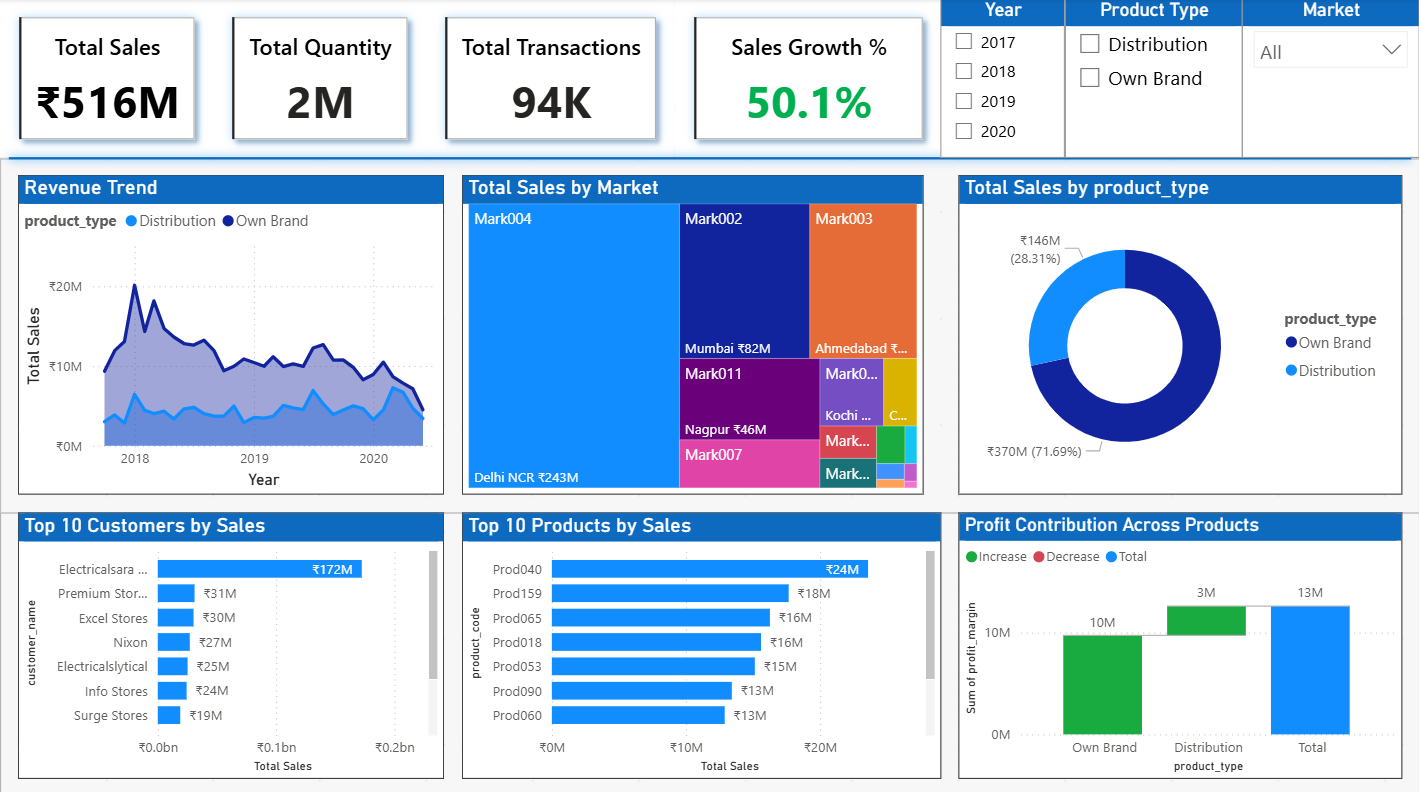

The page's visual inventory and layout, read from the dashboard file:
{"tool":"powerbi","page":{"name":"Page 1","canvas":[1280,720],"ordinal":0},"visuals":[{"type":"shape","box":[0,0,1280,144],"z":0},{"type":"shape","box":[0,144,1280,320],"z":1000},{"type":"shape","box":[0,464,1280,256],"z":2000},{"type":"cardVisual","title":"Total Sales","fields":{"Data":["transactions.Total Sales"]},"box":[0,0,192,144],"z":3000},{"type":"cardVisual","title":"Total Sales","fields":{"Data":["transactions.Sales Growth %"]},"box":[608,0,240,144],"z":4000},{"type":"cardVisual","title":"Total Sales","fields":{"Data":["transactions.Total Quantity"]},"box":[192,0,192,144],"z":5000},{"type":"cardVisual","title":"Total Sales","fields":{"Data":["transactions.Total Transactions"]},"box":[384,0,224,144],"z":6000},{"type":"shape","box":[0,128,1280,32],"z":7000},{"type":"clusteredBarChart","title":"Top 10 Products by Sales","fields":{"Category":["transactions.product_code"],"Y":["transactions.Total Sales"]},"box":[416,464,432,240],"z":8000},{"type":"treemap","title":"Total Sales by Market","fields":{"Group":["transactions.market_code"],"Values":["transactions.Total Sales"],"Details":["markets.markets_name"]},"box":[416,160,416,288],"z":9000},{"type":"clusteredBarChart","title":"Top 10 Customers by Sales","fields":{"Category":["customers.customer_name"],"Y":["transactions.Total Sales"]},"box":[16,464,384,240],"z":10000},{"type":"donutChart","fields":{"Y":["transactions.Total Sales"],"Category":["products.product_type"]},"box":[864,160,400,288],"z":11000},{"type":"lineChart","title":"Revenue Trend","fields":{"Y":["transactions.Total Sales"],"Category":["date.cy_date.Variation.Date Hierarchy.Year","date.cy_date.Variation.Date Hierarchy.Month"],"Series":["products.product_type"]},"box":[16,160,384,288],"z":12000},{"type":"slicer","title":"Year","fields":{"Values":["date.year"]},"box":[848,0,112,144],"z":13000},{"type":"slicer","title":"Product Type","fields":{"Values":["products.product_type"]},"box":[960,0,160,144],"z":14000},{"type":"slicer","title":"Market","fields":{"Values":["markets.markets_name"]},"box":[1120,0,160,144],"z":15000},{"type":"waterfallChart","title":"Profit Contribution Across Products","fields":{"Category":["products.product_type"],"Y":["Sum(transactions.profit_margin)"]},"box":[864,464,400,240],"z":16000}]}

Visuals, with their boxes in screenshot pixels (x1, y1, x2, y2), scaled from the page's 1280x720 canvas onto the 1419x792 screenshot:
shape: 0,0,1418,158
shape: 0,158,1418,510
shape: 0,510,1418,791
"Total Sales" cardVisual: 0,0,213,158
"Total Sales" cardVisual: 674,0,940,158
"Total Sales" cardVisual: 213,0,426,158
"Total Sales" cardVisual: 426,0,674,158
shape: 0,141,1418,176
"Top 10 Products by Sales" clusteredBarChart: 461,510,940,774
"Total Sales by Market" treemap: 461,176,922,493
"Top 10 Customers by Sales" clusteredBarChart: 18,510,443,774
donutChart - transactions.Total Sales x products.product_type: 958,176,1401,493
"Revenue Trend" lineChart: 18,176,443,493
"Year" slicer: 940,0,1064,158
"Product Type" slicer: 1064,0,1242,158
"Market" slicer: 1242,0,1418,158
"Profit Contribution Across Products" waterfallChart: 958,510,1401,774
